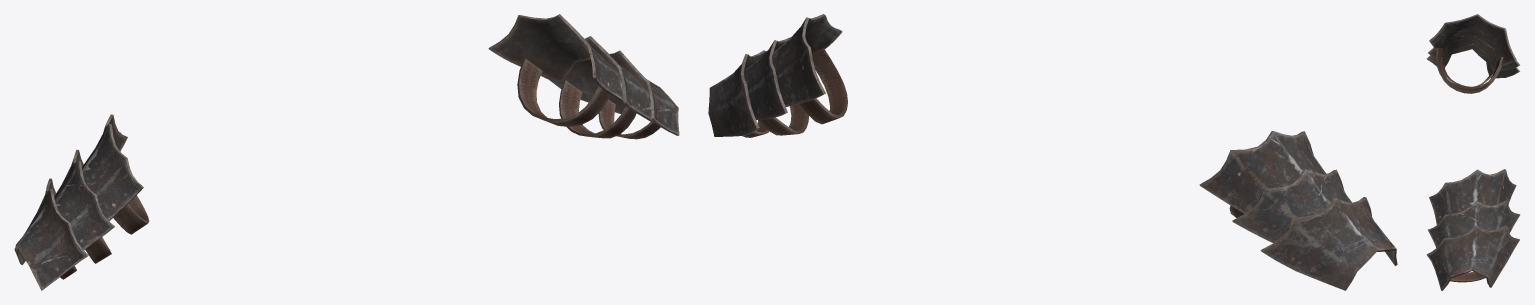
The model's file is sk_dg_uruk_bracer_heavy_e.fbx.
3 renders of one model, left to right at view 1: azimuth 30°, elevation 25°; view 2: azimuth 150°, elevation 25°; view 3: azimuth 270°, elevation 25°, orthographic. The views are drawn at different scales.
Visible parts, largest first — view 1: sk_dg_uruk_bracer_heavy_e; view 2: sk_dg_uruk_bracer_heavy_e; view 3: sk_dg_uruk_bracer_heavy_e.
Part boxes in pixels (x1=…): sk_dg_uruk_bracer_heavy_e: x1=14, y1=14, x2=679, y2=290; sk_dg_uruk_bracer_heavy_e: x1=708, y1=14, x2=1397, y2=290; sk_dg_uruk_bracer_heavy_e: x1=1426, y1=14, x2=1520, y2=290.
Size of the model in its own units: 1.34 by 0.2366 by 0.2588.
1 material, 1 textured.
